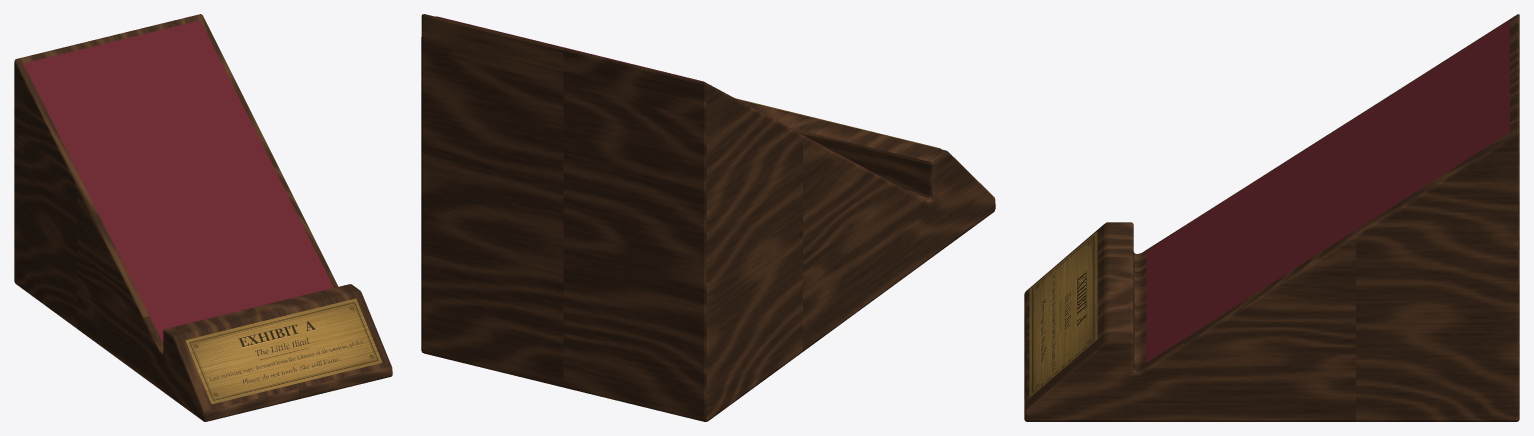
Rendered from book_stand.glb.
The picture shows the model from 3 angles, left to right: view 1: azimuth 30°, elevation 25°; view 2: azimuth 150°, elevation 25°; view 3: azimuth 270°, elevation 25°; orthographic projection. The views are drawn at different scales.
Parts seen in each view (by area): view 1: StandFelt, StandBody, StandPlaque; view 2: StandBody; view 3: StandBody, StandFelt, StandPlaque.
Boxes of the visible parts, <box> form: StandFelt: <box>23,20,333,342</box>; StandBody: <box>14,14,392,421</box>; StandPlaque: <box>185,298,382,404</box>; StandBody: <box>421,14,995,421</box>; StandBody: <box>1024,14,1519,421</box>; StandFelt: <box>1146,20,1509,362</box>; StandPlaque: <box>1029,231,1097,397</box>.
Bounding box in the file's own units: 0.38 × 0.4306 × 0.665.
3 materials, 2 textured.
